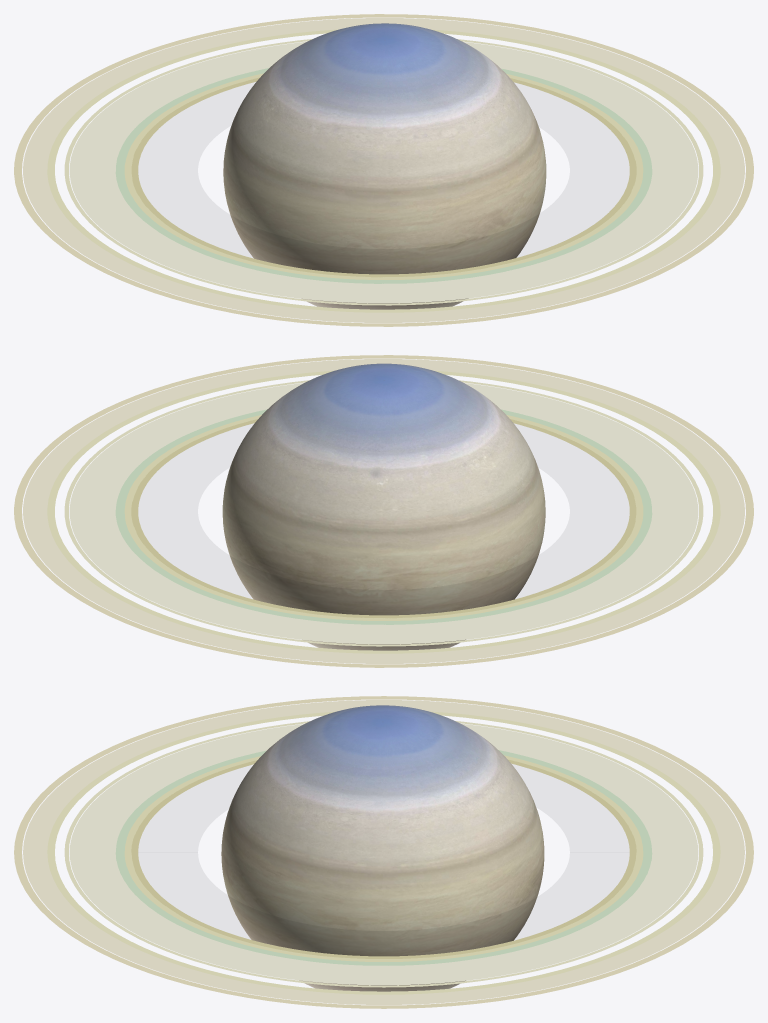
Rendered from saturno.glb.
The picture shows the model from 3 angles, top to bottom: view 1: azimuth 30°, elevation 25°; view 2: azimuth 150°, elevation 25°; view 3: azimuth 270°, elevation 25°; orthographic projection.
Parts seen in each view (by area): view 1: Kugel, b_ring3, a_ring2, a_ring, b_ring2, a_ring3, b_ring4, b_ring5, b_ring6, b_ring; view 2: Kugel, b_ring3, a_ring2, a_ring, b_ring2, a_ring3, b_ring4, b_ring5, b_ring6, b_ring; view 3: Kugel, b_ring3, a_ring2, a_ring, b_ring2, a_ring3, b_ring4, b_ring5, b_ring6, b_ring.
Boxes of the visible parts, box(x1,y1,x2,y2) form: Kugel: box(223, 23, 546, 309); b_ring3: box(79, 47, 687, 298); a_ring2: box(23, 18, 744, 322); a_ring: box(14, 14, 753, 326); b_ring2: box(69, 41, 698, 303); a_ring3: box(47, 29, 720, 312); b_ring4: box(115, 68, 652, 283); b_ring5: box(124, 73, 643, 279); b_ring6: box(131, 77, 636, 277); b_ring: box(64, 39, 703, 305); Kugel: box(222, 363, 545, 650); b_ring3: box(80, 388, 688, 639); a_ring2: box(23, 359, 744, 663); a_ring: box(14, 355, 753, 667); b_ring2: box(69, 383, 698, 644); a_ring3: box(47, 371, 720, 653); b_ring4: box(115, 409, 652, 624); b_ring5: box(124, 414, 643, 620); b_ring6: box(131, 419, 636, 618); b_ring: box(64, 380, 703, 646); Kugel: box(221, 705, 544, 991); b_ring3: box(79, 729, 688, 980); a_ring2: box(23, 700, 744, 1004); a_ring: box(14, 696, 753, 1008); b_ring2: box(69, 723, 698, 985); a_ring3: box(47, 711, 720, 994); b_ring4: box(115, 750, 652, 965); b_ring5: box(124, 755, 643, 961); b_ring6: box(131, 759, 636, 958); b_ring: box(64, 721, 703, 987).
Bounding box in the file's own units: 272 × 107 × 272.
11 materials, 1 textured.
